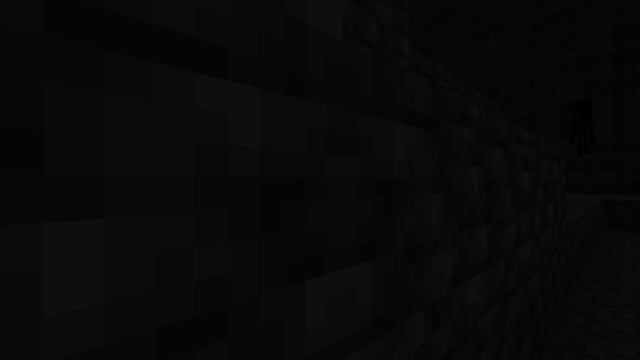endermens: (573, 97, 590, 154)
